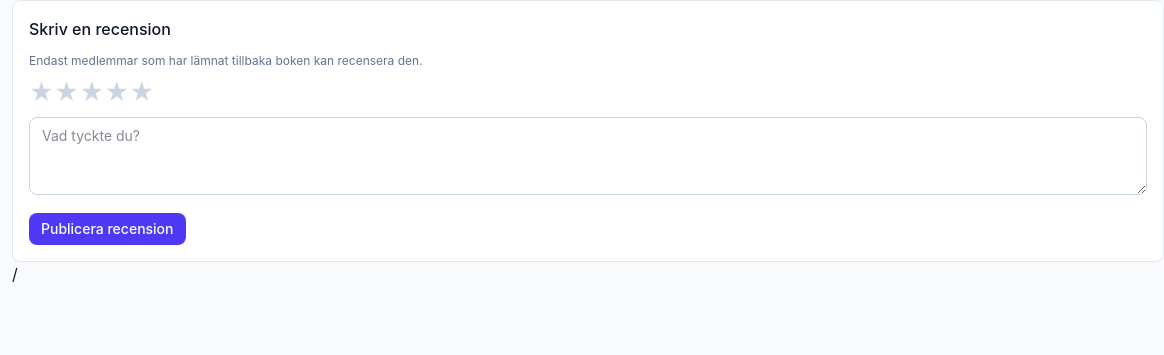
Test: NewReviewForm › skickar inget om betyg saknas
In the text box with placeholder "Vad tyckte du?": x=588, y=156 [29,117,1147,195], type "Utan stjärnor"
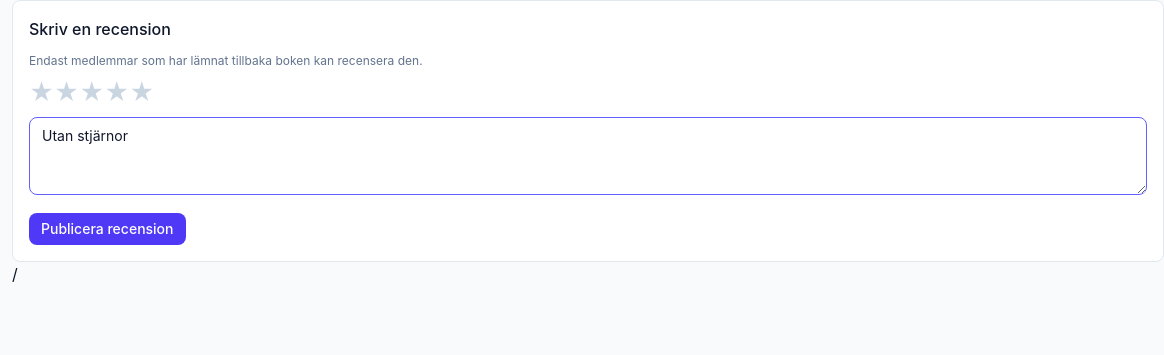
Click the button "Publicera recension": x=107, y=229 [29,213,186,245]
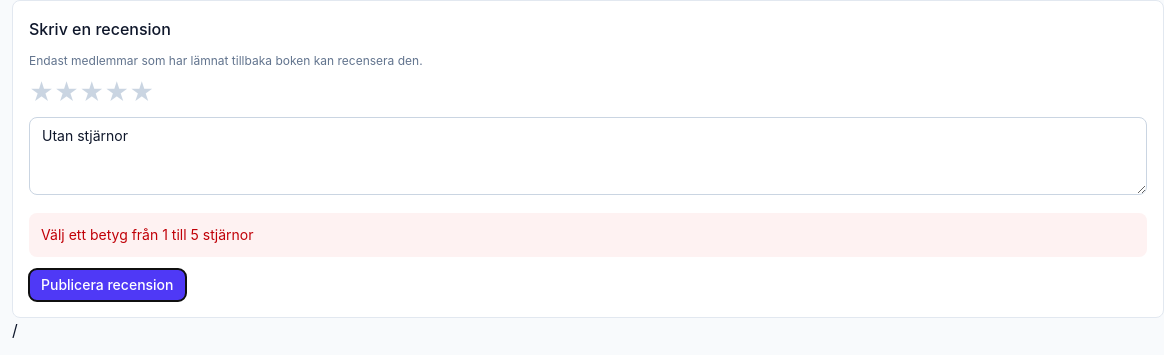
Check: the text "Välj ett betyg från 1 till 5 stjärnor" is shown, box [29,213,1147,257]
